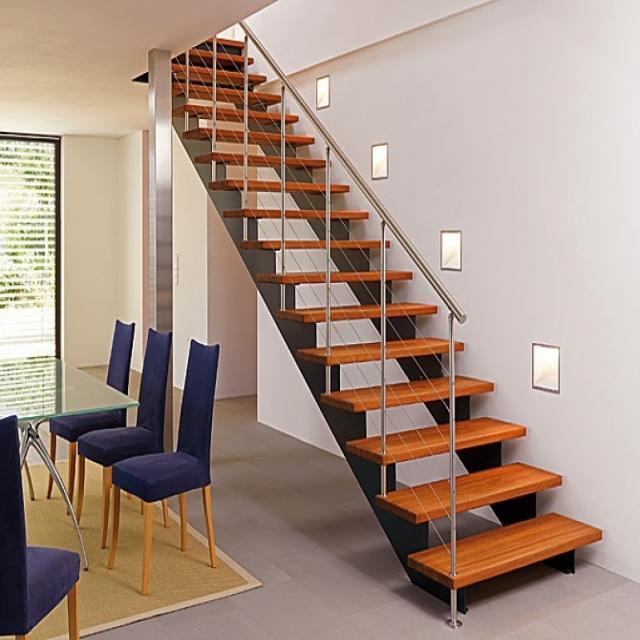stairs: (170, 32, 602, 621)
